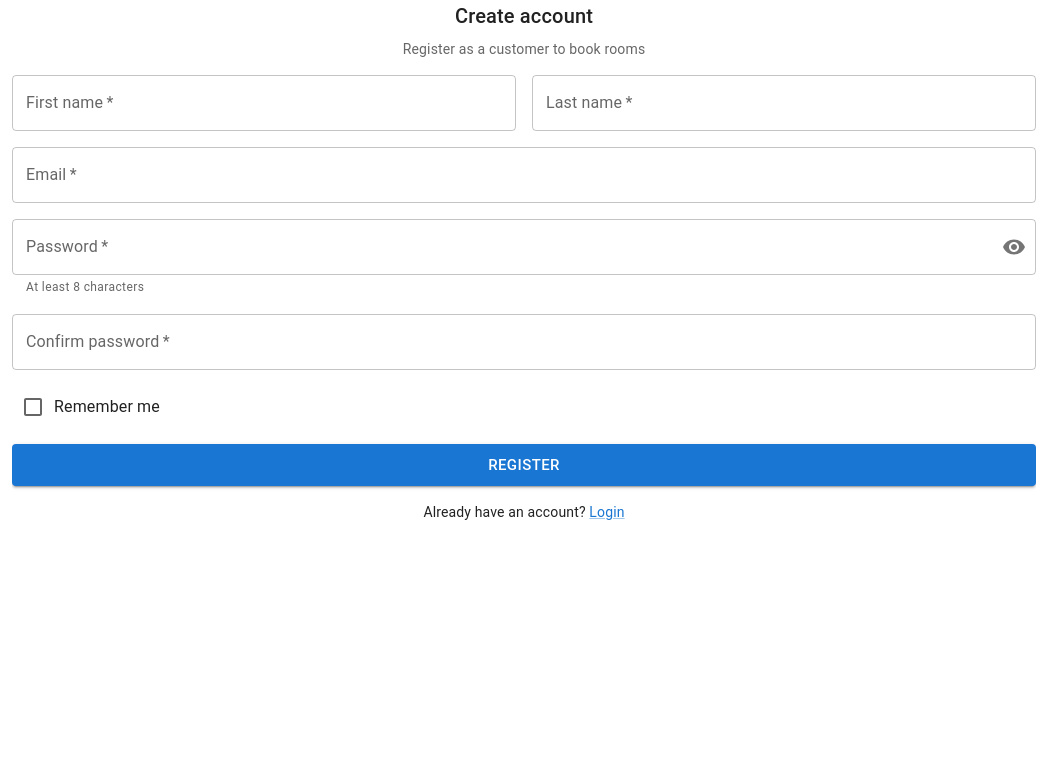
Test: RegisterPage › shows validation errors when required fields are empty
Click the button "Register".
click(524, 465)  # box [12,444,1036,486]
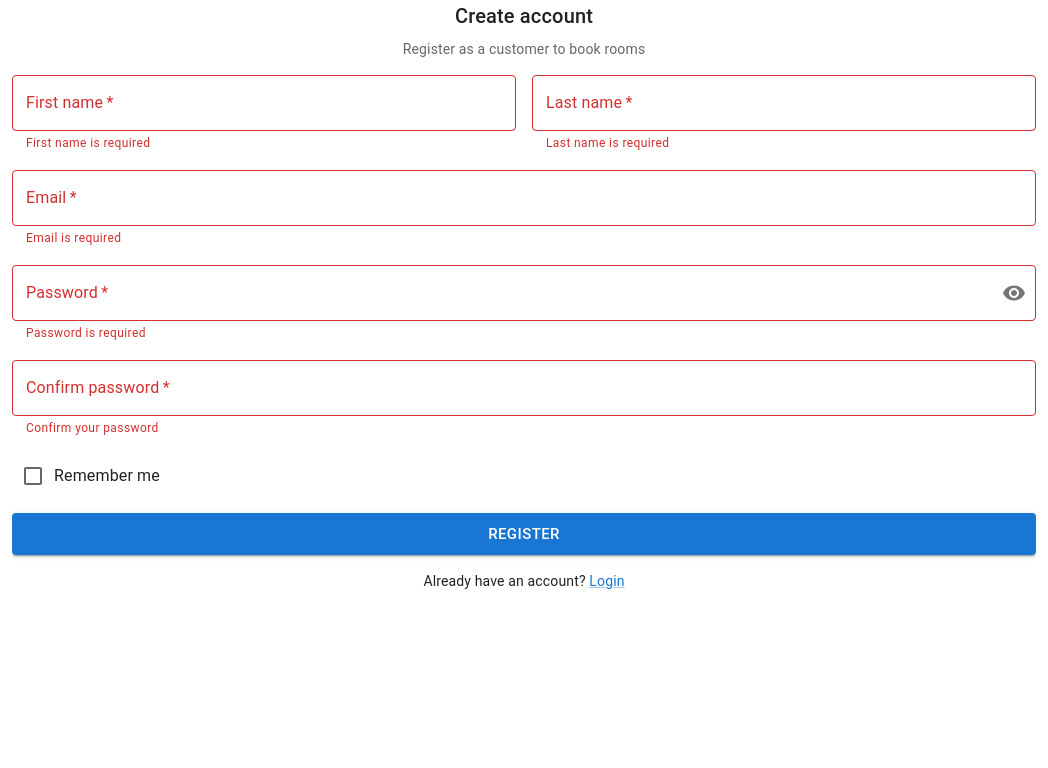
Expected: the text "First name is required" is shown, [26,136,150,150]
